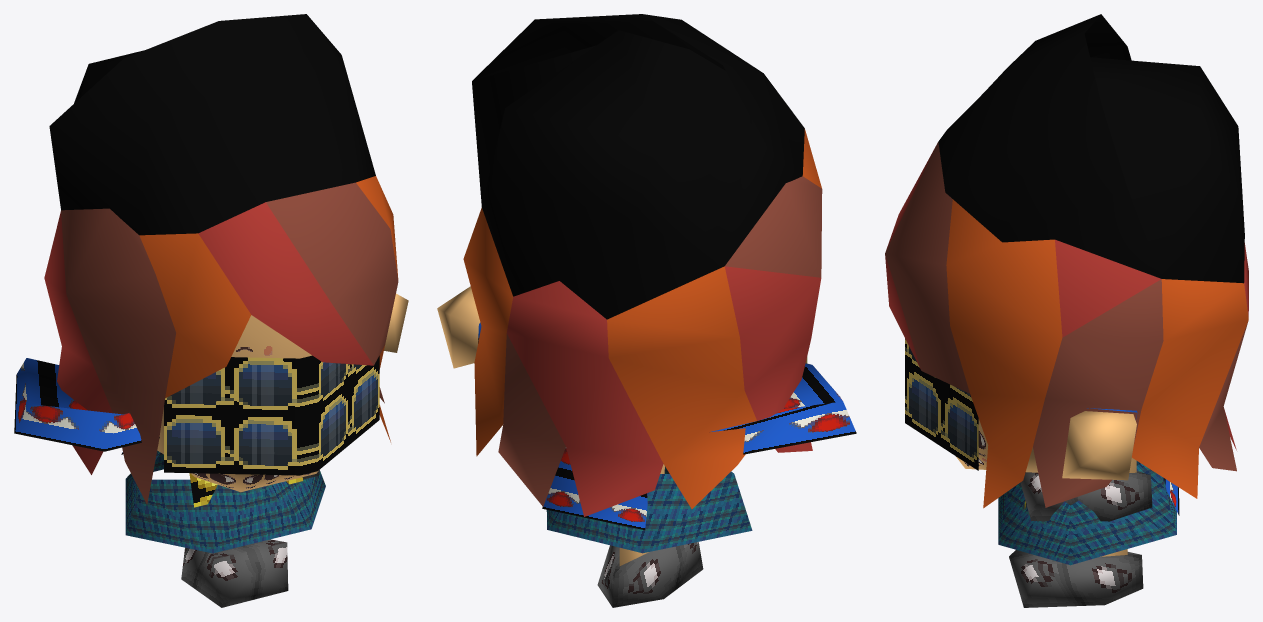
3 views of the same model, side by side, from view 1: azimuth 30°, elevation 25°; view 2: azimuth 150°, elevation 25°; view 3: azimuth 270°, elevation 25° (orthographic). The views are drawn at different scales.
Visible parts, largest first — view 1: pmd04_10_01; view 2: pmd04_10_01; view 3: pmd04_10_01.
Boxes of the visible parts, bbox=[...] form: pmd04_10_01: bbox=[14, 14, 408, 607]; pmd04_10_01: bbox=[437, 14, 856, 607]; pmd04_10_01: bbox=[885, 14, 1248, 607].
Size of the model in its own units: 1.22 by 1.61 by 0.9575.
Materials: 9 (9 with a texture image).
